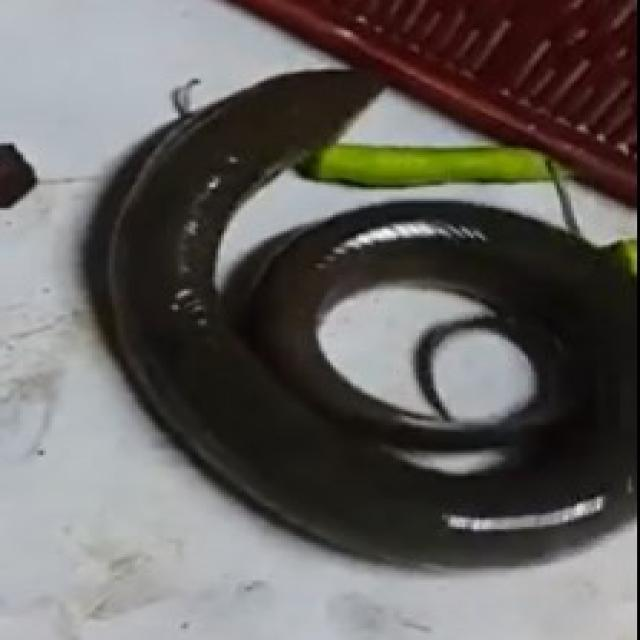Freshwater-Eel: (57, 36, 640, 578)
